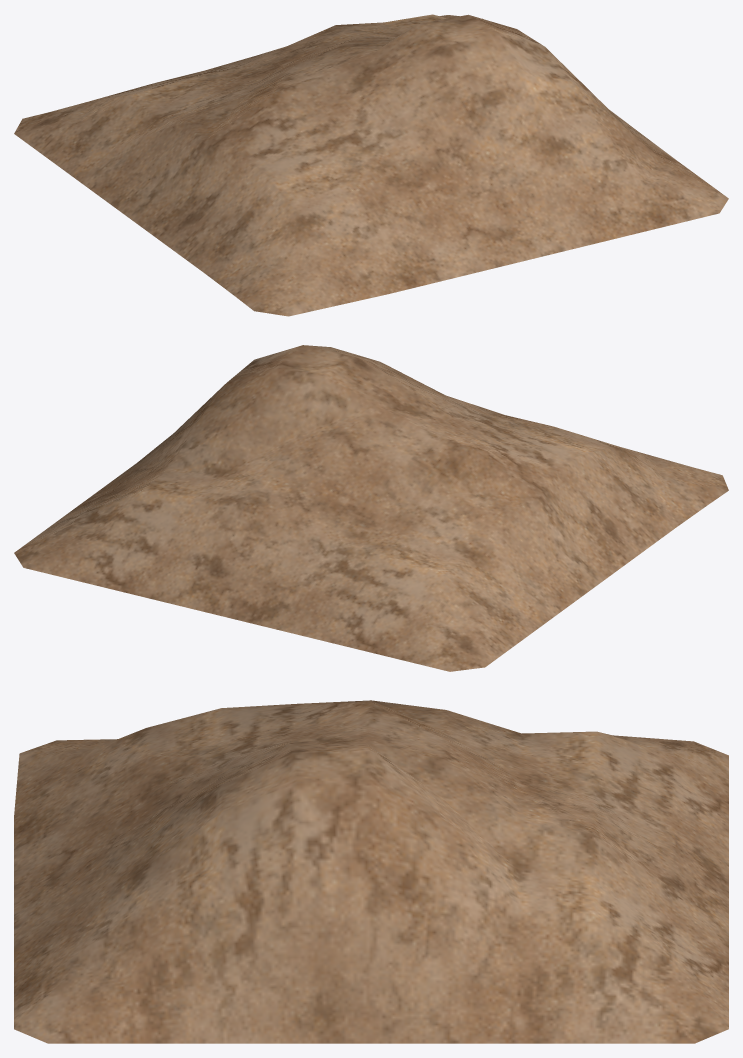
File: Sand slide 2.fbx
3 renders of one model, top to bottom at view 1: azimuth 30°, elevation 25°; view 2: azimuth 150°, elevation 25°; view 3: azimuth 270°, elevation 25°, orthographic. The views are drawn at different scales.
Visible parts, largest first — view 1: Deslizamento 2; view 2: Deslizamento 2; view 3: Deslizamento 2.
Part boxes in pixels (left/top/right/bottom): Deslizamento 2: left=14, top=14, right=728, bottom=316; Deslizamento 2: left=14, top=345, right=728, bottom=671; Deslizamento 2: left=14, top=700, right=728, bottom=1043.
Bounding box in the file's own units: 628 × 167 × 626.
